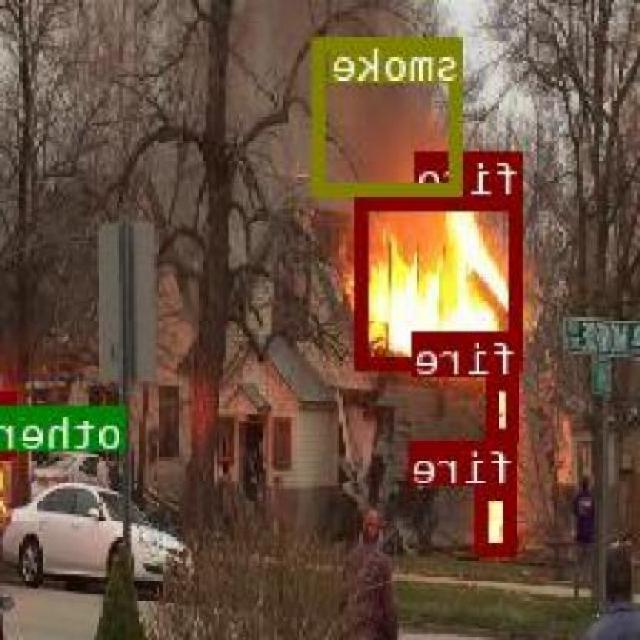Fire: (360, 196, 526, 367), (480, 484, 517, 552), (490, 374, 521, 438), (5, 392, 13, 454)
Smoke: (316, 36, 464, 192)
